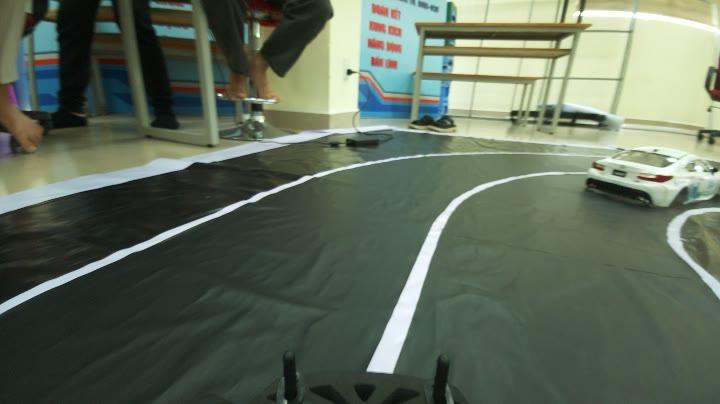car: (587, 134, 712, 220)
